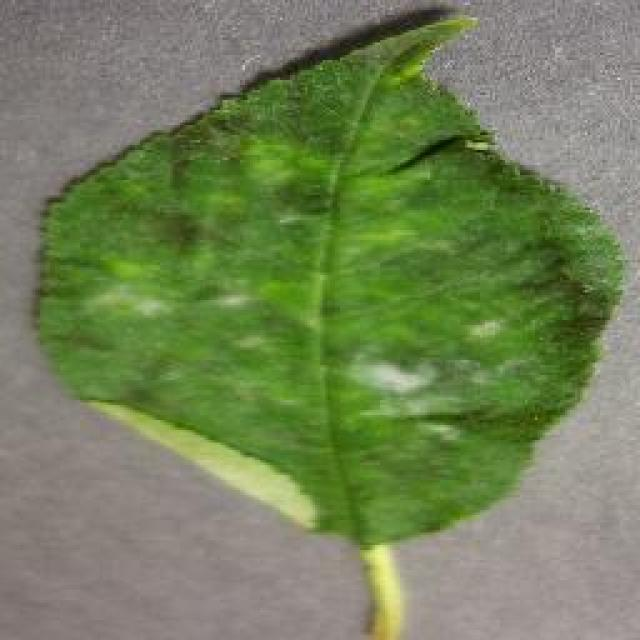Cherry___Powdery_mildew: (18, 2, 632, 640)
